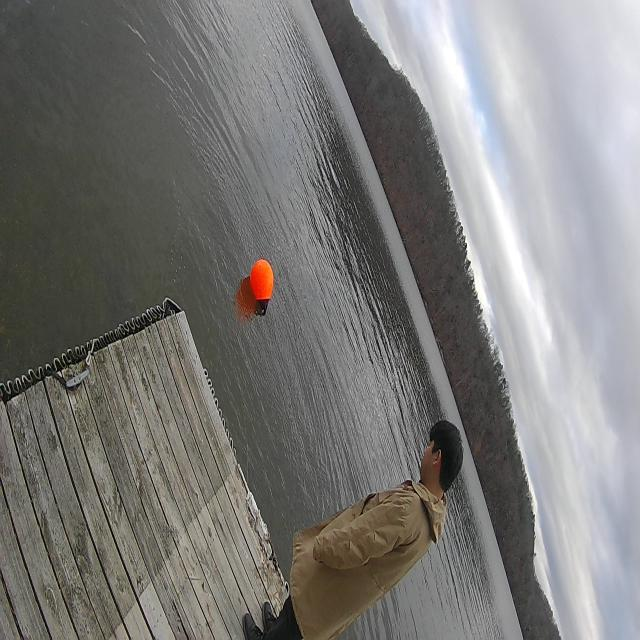Buoy: (250, 255, 276, 322)
